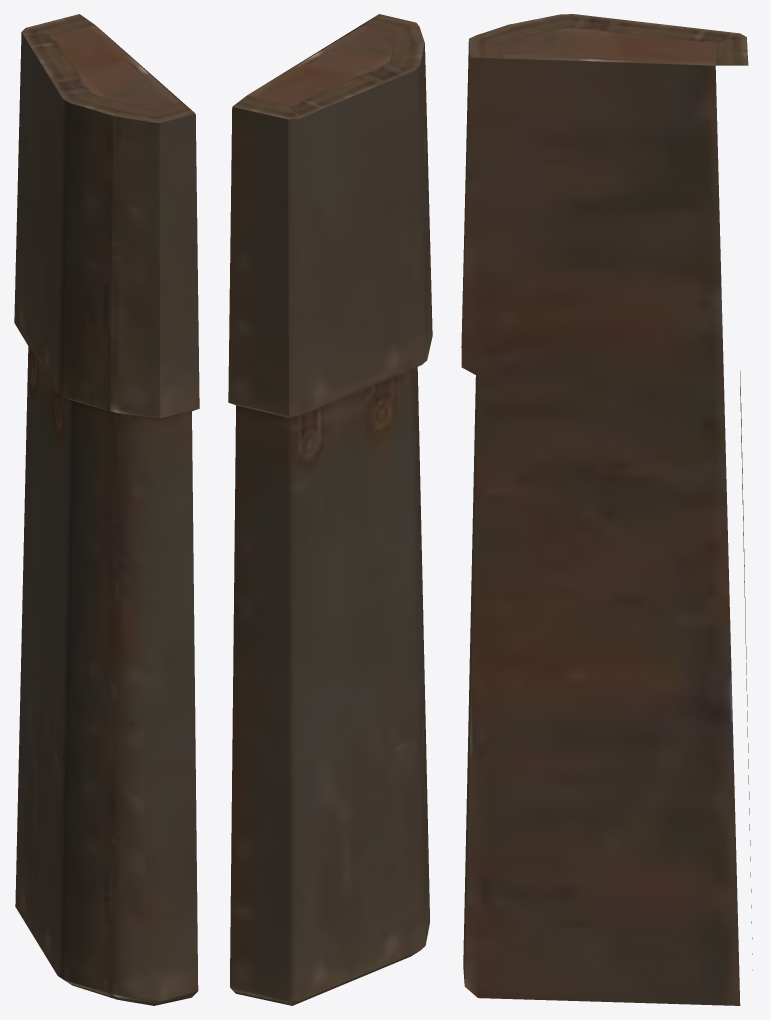
Rendered from wall.half.toptier.corner.r.glb.
The picture shows the model from 3 angles, left to right: view 1: azimuth 30°, elevation 25°; view 2: azimuth 150°, elevation 25°; view 3: azimuth 270°, elevation 25°; orthographic projection. The views are drawn at different scales.
Visible parts, largest first — view 1: wall.half.corner.R_LOD0; view 2: wall.half.corner.R_LOD0; view 3: wall.half.corner.R_LOD0.
Part boxes in pixels (box(x1,y1,x2,y2)): wall.half.corner.R_LOD0: box(14, 14, 199, 1005); wall.half.corner.R_LOD0: box(228, 14, 432, 1005); wall.half.corner.R_LOD0: box(461, 14, 752, 1005).
Size of the model in its own units: 0.1888 by 1.5 by 0.4265.
1 material, 1 textured.
